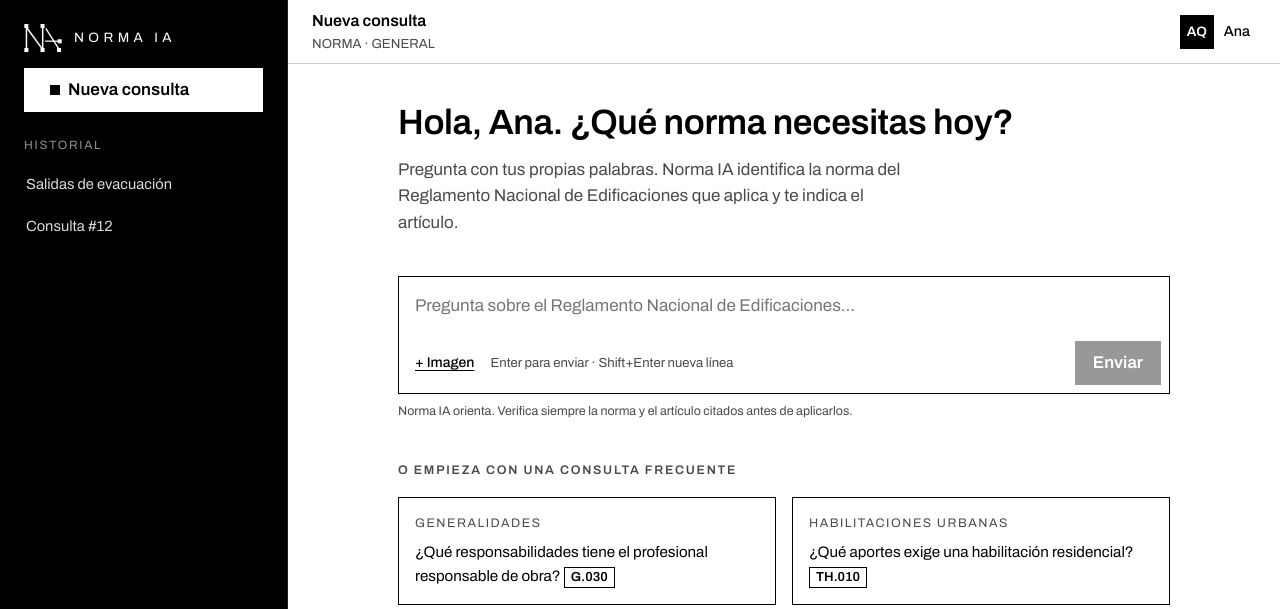
Test: chat del usuario final › cerrar sesión limpia y vuelve al ingreso
Click the button named "menú de cuenta" at coordinates (1215, 32), box [1174,8,1256,54]
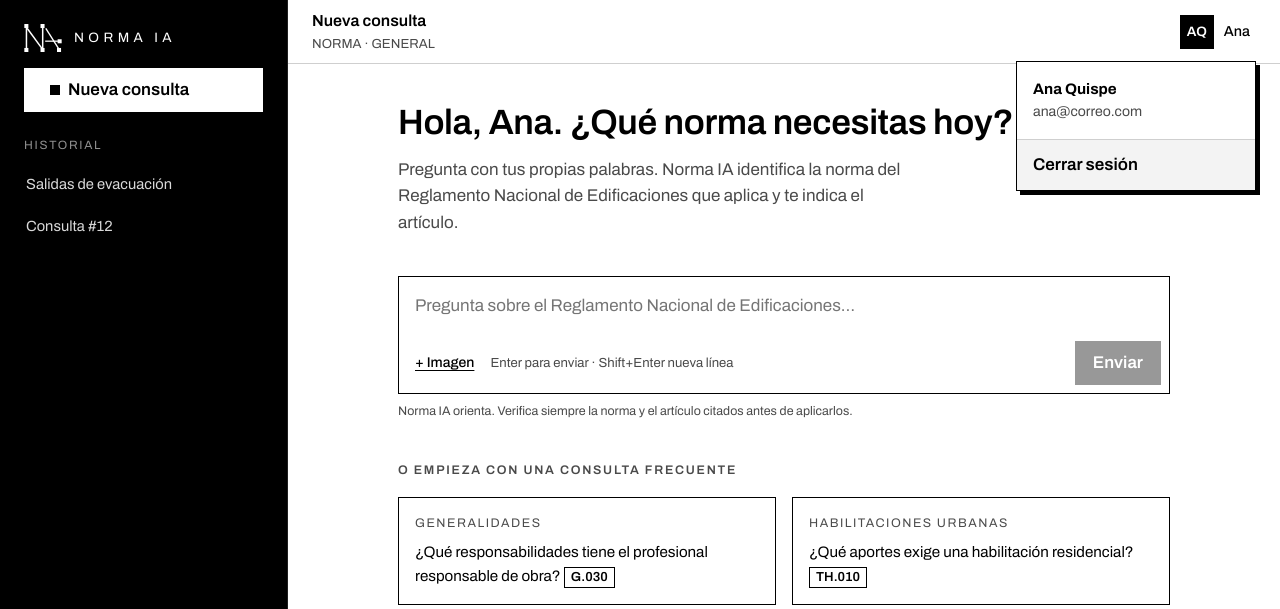
Click the button "Cerrar sesión" at coordinates (1136, 165), box [1017,140,1255,190]
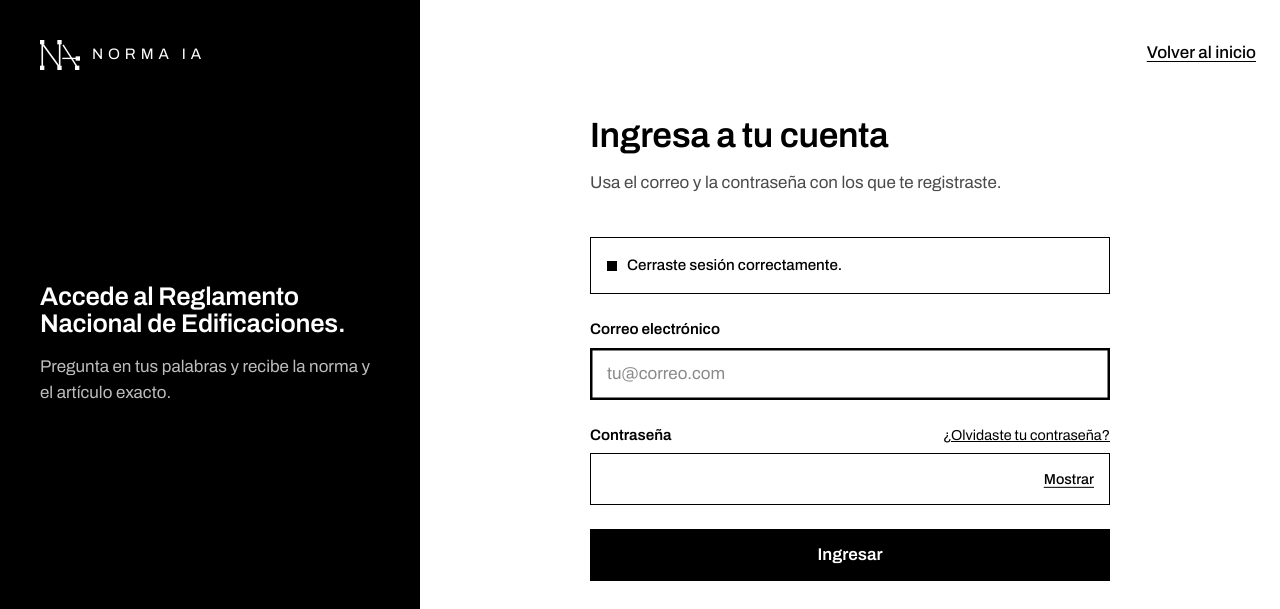
Now the message reads "Cerraste sesión correctamente.", box [627,257,842,273]
